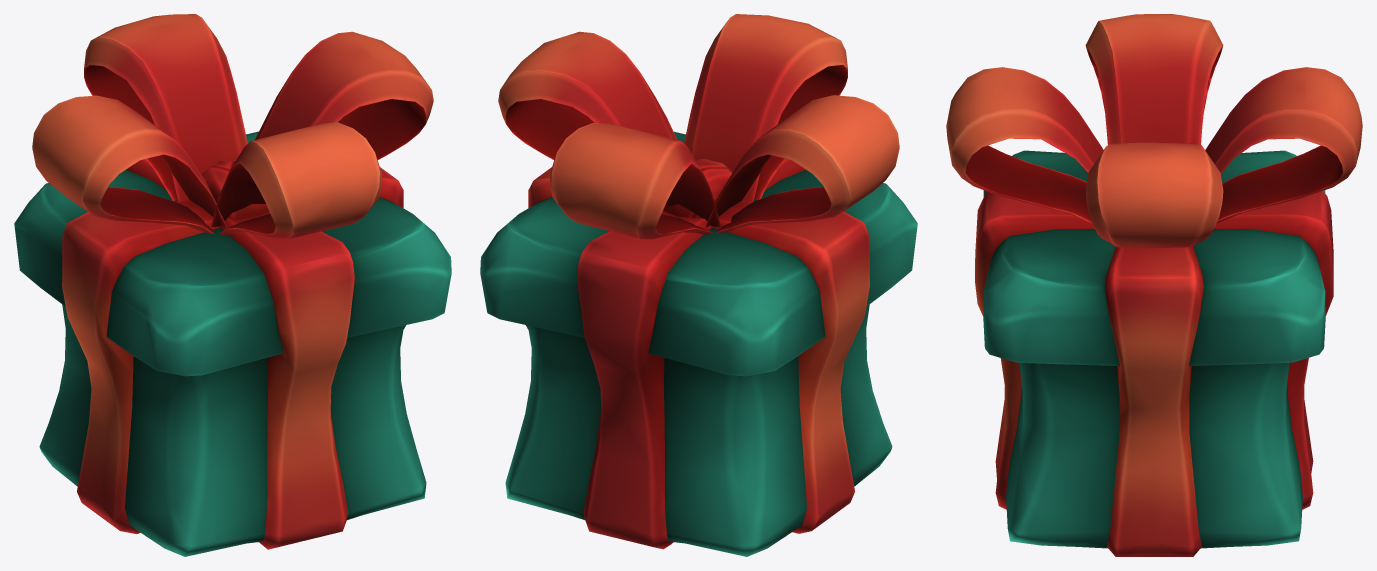
The model's file is present_02_LOD1.fbx.
3 views of the same model, side by side, from view 1: azimuth 30°, elevation 25°; view 2: azimuth 150°, elevation 25°; view 3: azimuth 270°, elevation 25° (orthographic).
Parts seen in each view (by area): view 1: present_02_LOD0; view 2: present_02_LOD0; view 3: present_02_LOD0.
Boxes of the visible parts, box(x1,y1,x2,y2) form: present_02_LOD0: box(14, 14, 451, 556); present_02_LOD0: box(480, 14, 917, 556); present_02_LOD0: box(946, 14, 1362, 556).
Size of the model in its own units: 53.26 by 58.94 by 53.26.
1 material, 1 textured.
